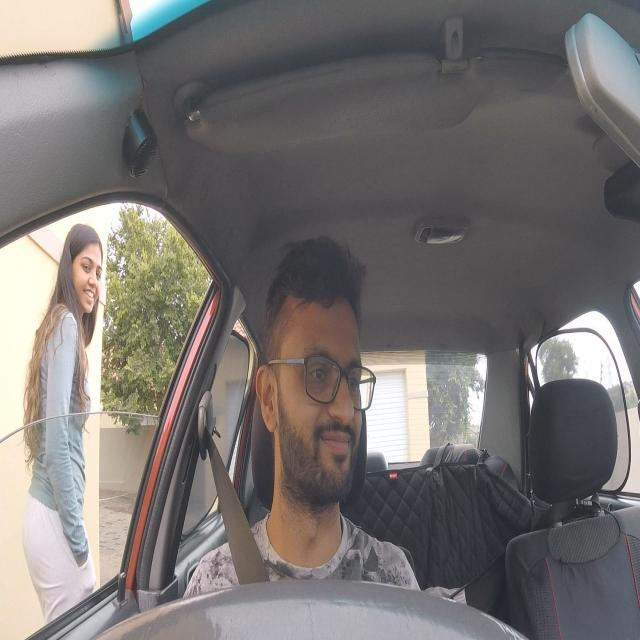open: (301, 342, 336, 402), (343, 346, 363, 408)
